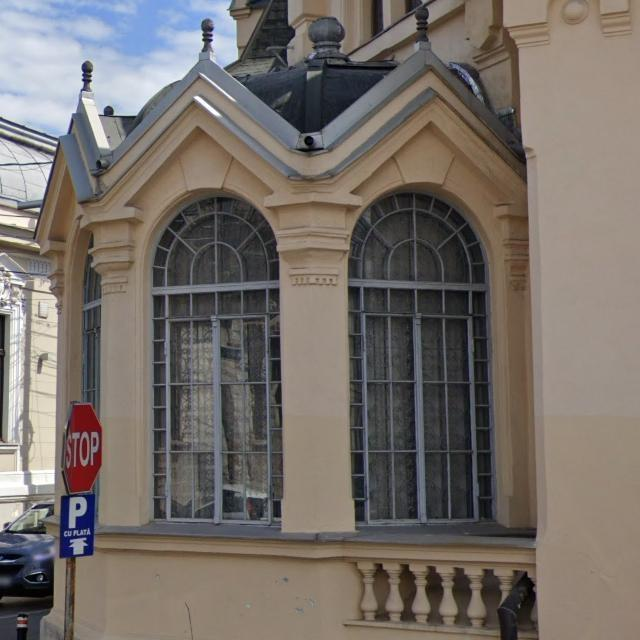prio_stop: (61, 401, 103, 494)
